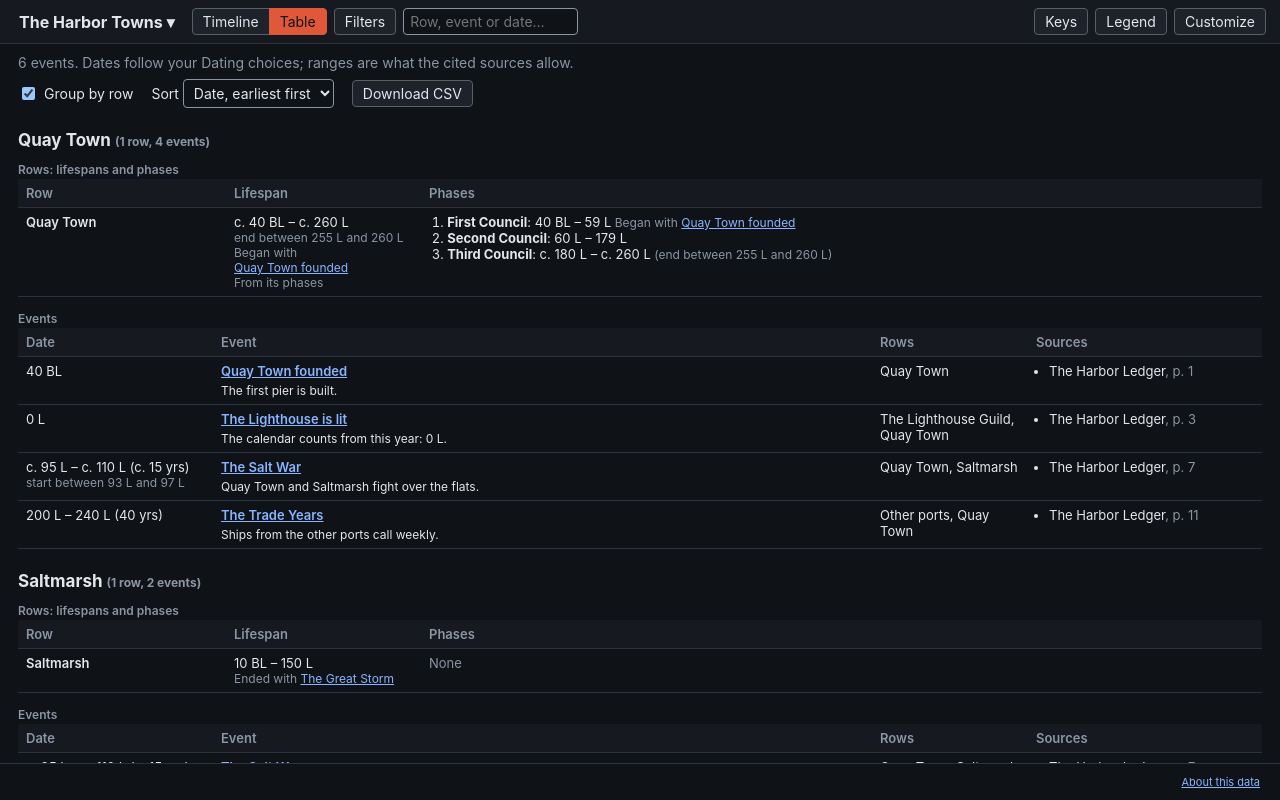
Test: succession › lists them in the table view's rows table, where each opens the event, and the event lists what it began and ended
Check: the element with class "began-ended" in the row of "First Council" reads "Began with Quay Town founded", box x1=611 y1=215 x2=796 y2=230
Click the button "Quay Town founded" in the row of "First Council". click: click(738, 222)
box: x1=681 y1=215 x2=796 y2=230
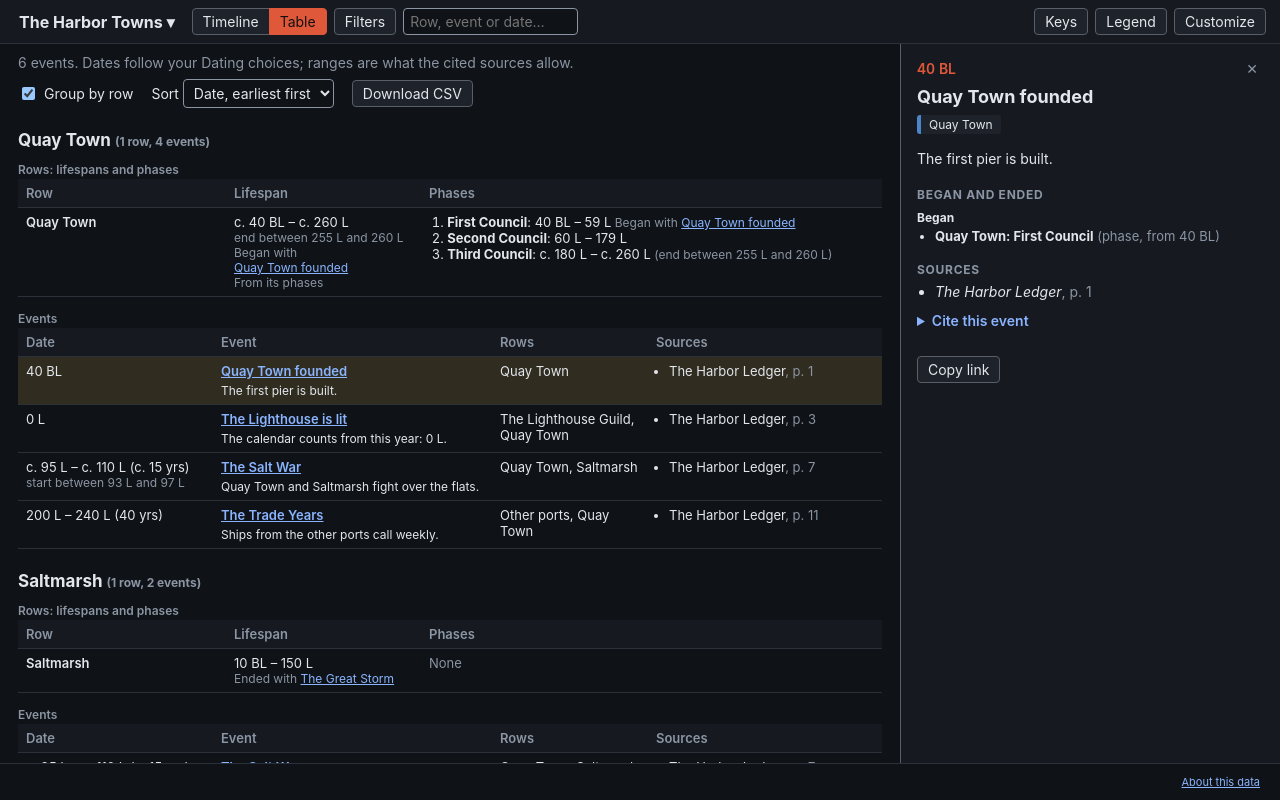
Check: the heading "Quay Town founded" is shown, box x1=917 y1=86 x2=1093 y2=107
